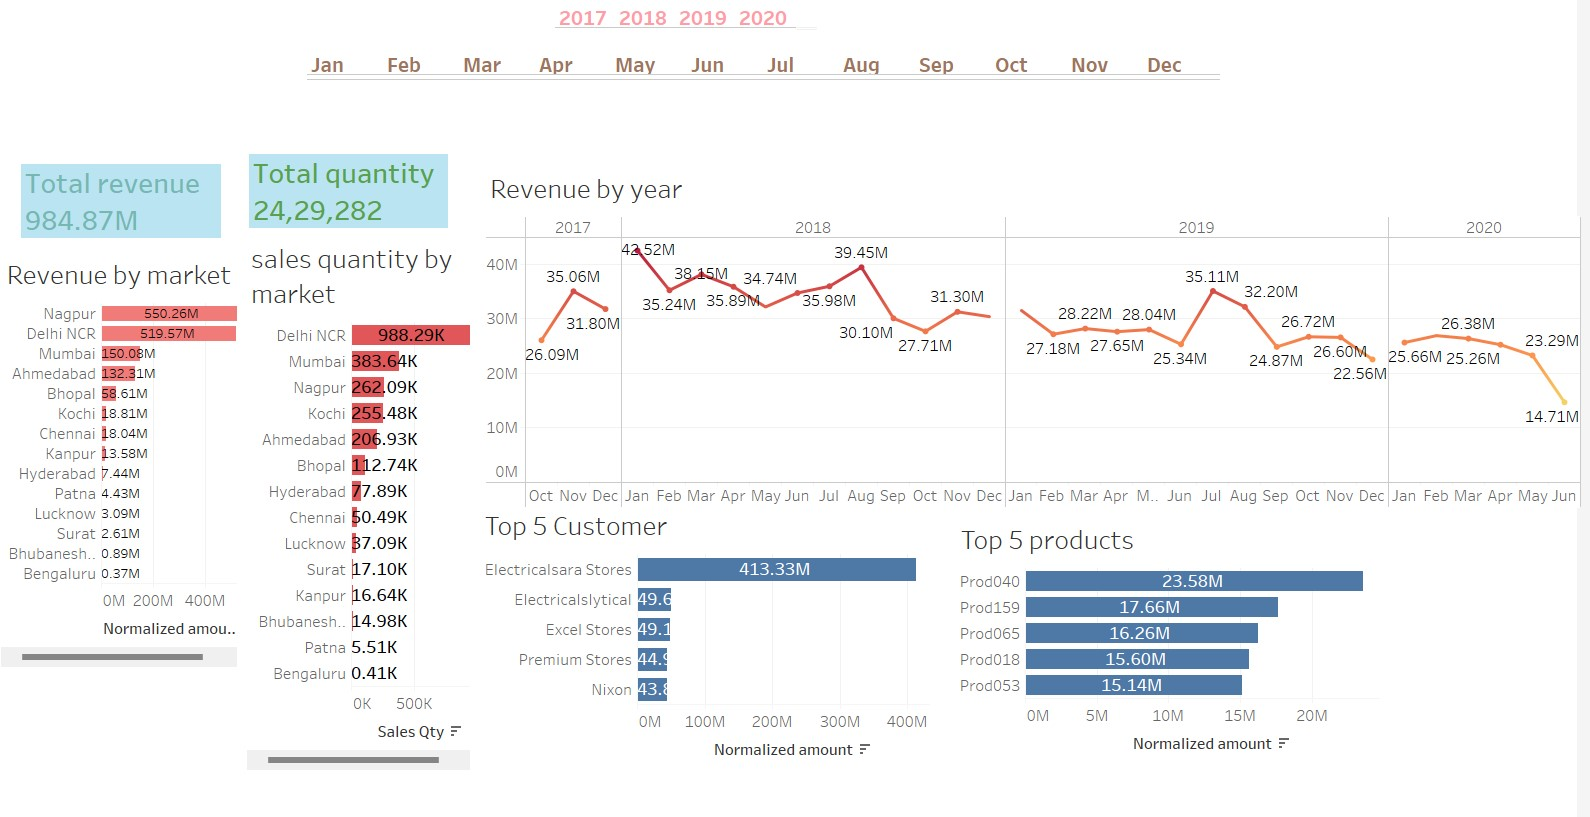

This screenshot's page, from the dashboard's own definition file:
{"tool":"tableau","page":{"name":"Revenue Analysis Dashboard","canvas":[1600,900],"ordinal":1},"visuals":[{"type":"worksheet","title":"year","mark":"Automatic","cols":["cy_date"],"box":[578.1,12,325.3,39]},{"type":"worksheet","title":"Month","mark":"Automatic","cols":["cy_date"],"box":[329.6,59,949.3,57]},{"type":"worksheet","title":"quantity","mark":"Automatic","box":[272,159,219,102]},{"type":"worksheet","title":"Revenue","mark":"Automatic","box":[44,169,215,96]},{"type":"worksheet","title":"Revenue by year","mark":"Automatic","rows":["Calculation_960392679267672064"],"cols":["cy_date","cy_date"],"box":[509,187,1095,341]},{"type":"worksheet","title":"sales quantity by market","mark":"Automatic","rows":["markets_name"],"cols":["sales_qty"],"box":[270,257,223,538]},{"type":"worksheet","title":"Revenue by market","mark":"Automatic","rows":["markets_name"],"cols":["Calculation_960392679267672064"],"box":[24,273,236,432]},{"type":"worksheet","title":"Top 5 Customer","mark":"Automatic","rows":["custmer_name"],"cols":["Calculation_960392679267672064"],"box":[504,524,449,269]},{"type":"worksheet","title":"Top 5 products","mark":"Automatic","rows":["product_code (products)"],"cols":["Calculation_960392679267672064"],"box":[980,538,423,259]}]}

Visuals, with their boxes on the page's 1600x900 design canvas (x1, y1, x2, y2). These are canvas units, not pixel positions in the 1590x817 screenshot, which may show the page scaled, cropped or inside an application window:
"year" worksheet: (578, 12, 903, 51)
"Month" worksheet: (330, 59, 1279, 116)
"quantity" worksheet: (272, 159, 491, 261)
"Revenue" worksheet: (44, 169, 259, 265)
"Revenue by year" worksheet: (509, 187, 1604, 528)
"sales quantity by market" worksheet: (270, 257, 493, 795)
"Revenue by market" worksheet: (24, 273, 260, 705)
"Top 5 Customer" worksheet: (504, 524, 953, 793)
"Top 5 products" worksheet: (980, 538, 1403, 797)
